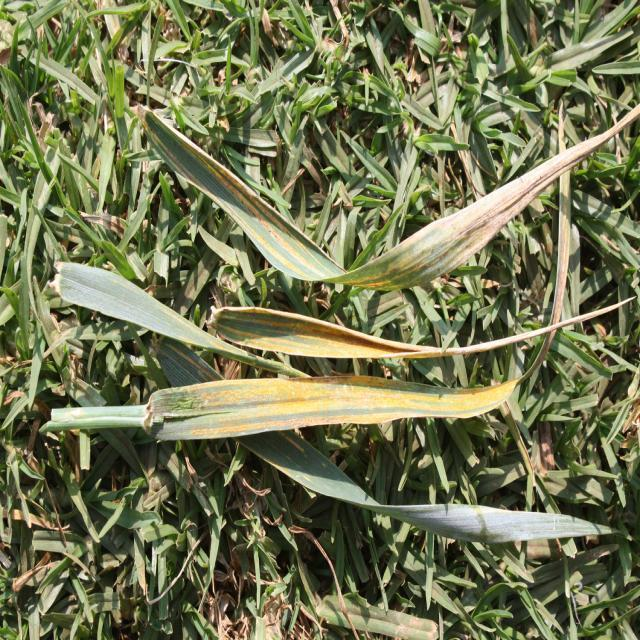Yellow Rust: (135, 103, 639, 289), (139, 376, 515, 439)
